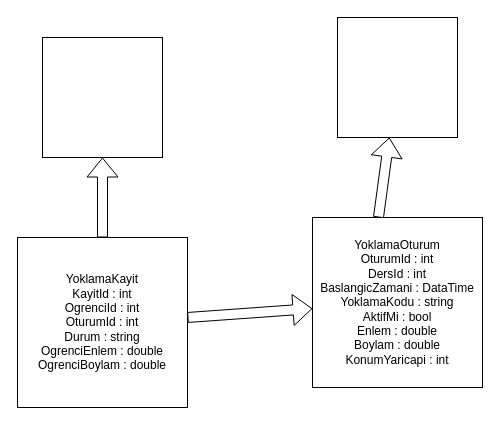
The diagram is 500 pixels wide and 425 high, and some of its shapes have lost their labels. The box of each missing label's shape, as (x1, y1, x2, y2) in pixels:
Ders Id : int DersAdi : string DersKodu : string: (336, 16, 458, 138)
Ogrenci Id : int AdSoyad : string Numara : int: (42, 36, 162, 158)
